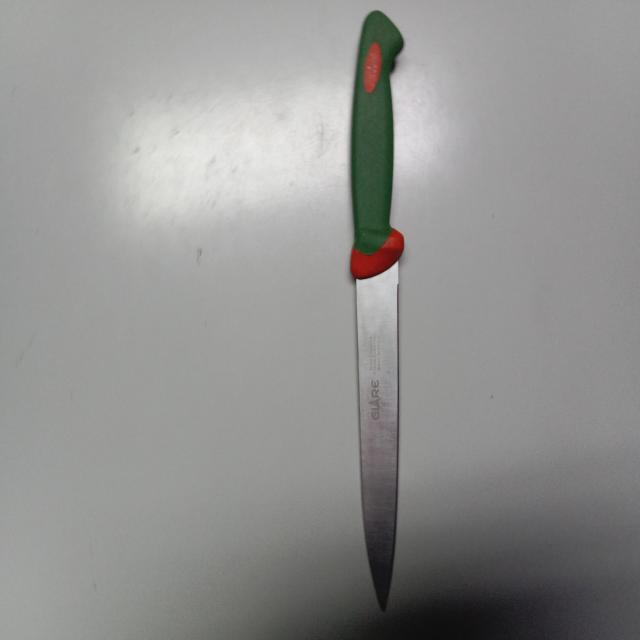Knife: (350, 9, 405, 611)
